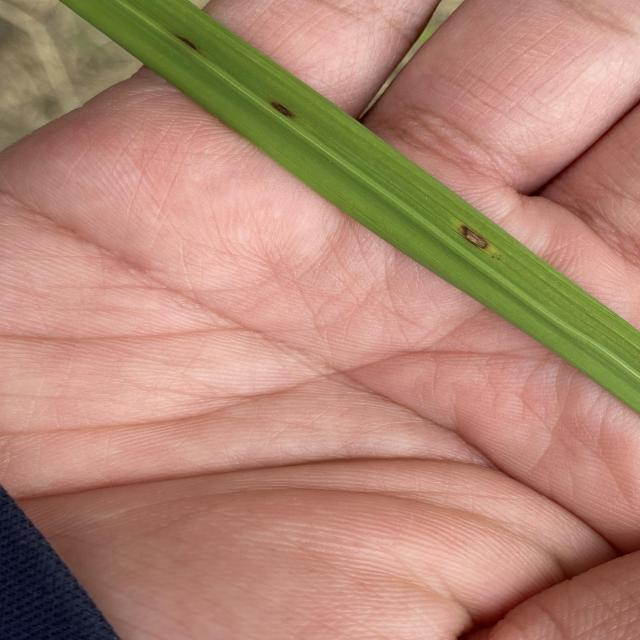Dom nau: (460, 222, 492, 252), (172, 31, 203, 52), (266, 100, 295, 120)
